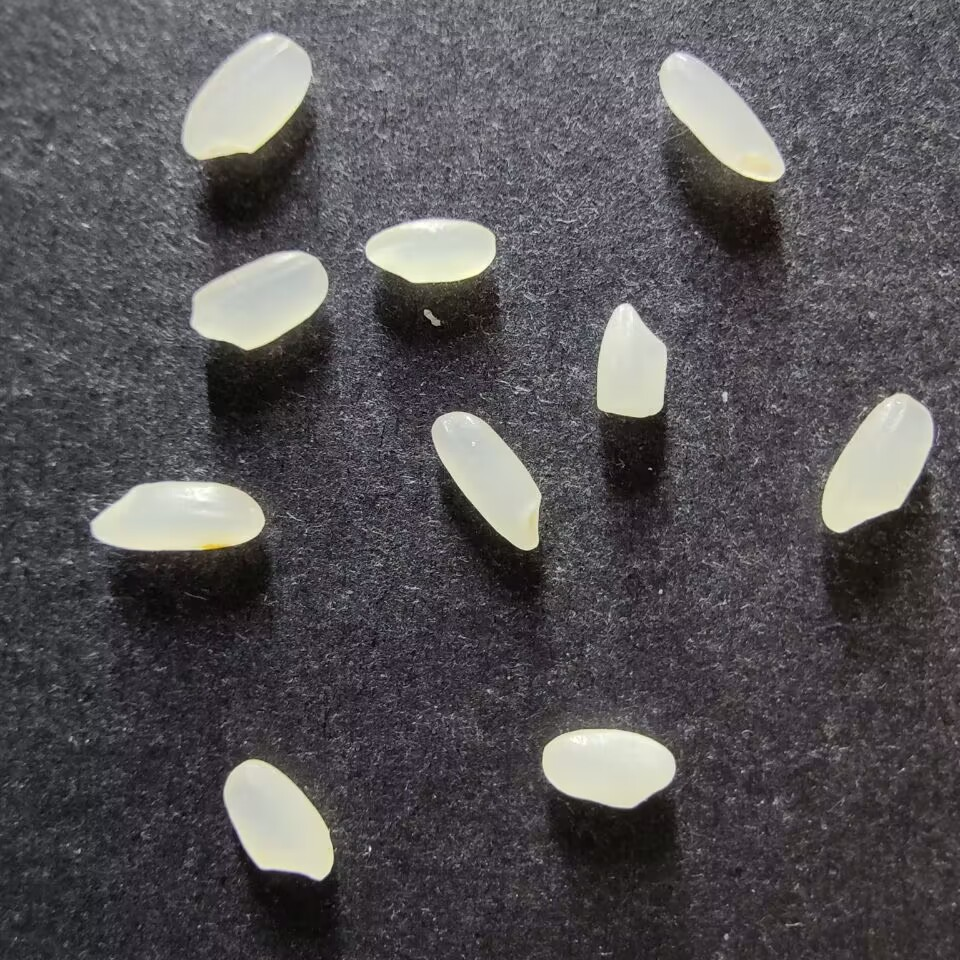broken: (594, 301, 667, 418)
rice: (180, 32, 314, 162), (656, 51, 786, 182), (820, 391, 936, 534), (429, 410, 542, 553), (190, 250, 328, 353), (221, 757, 334, 882), (88, 479, 264, 552), (540, 727, 676, 811), (363, 218, 497, 283)
